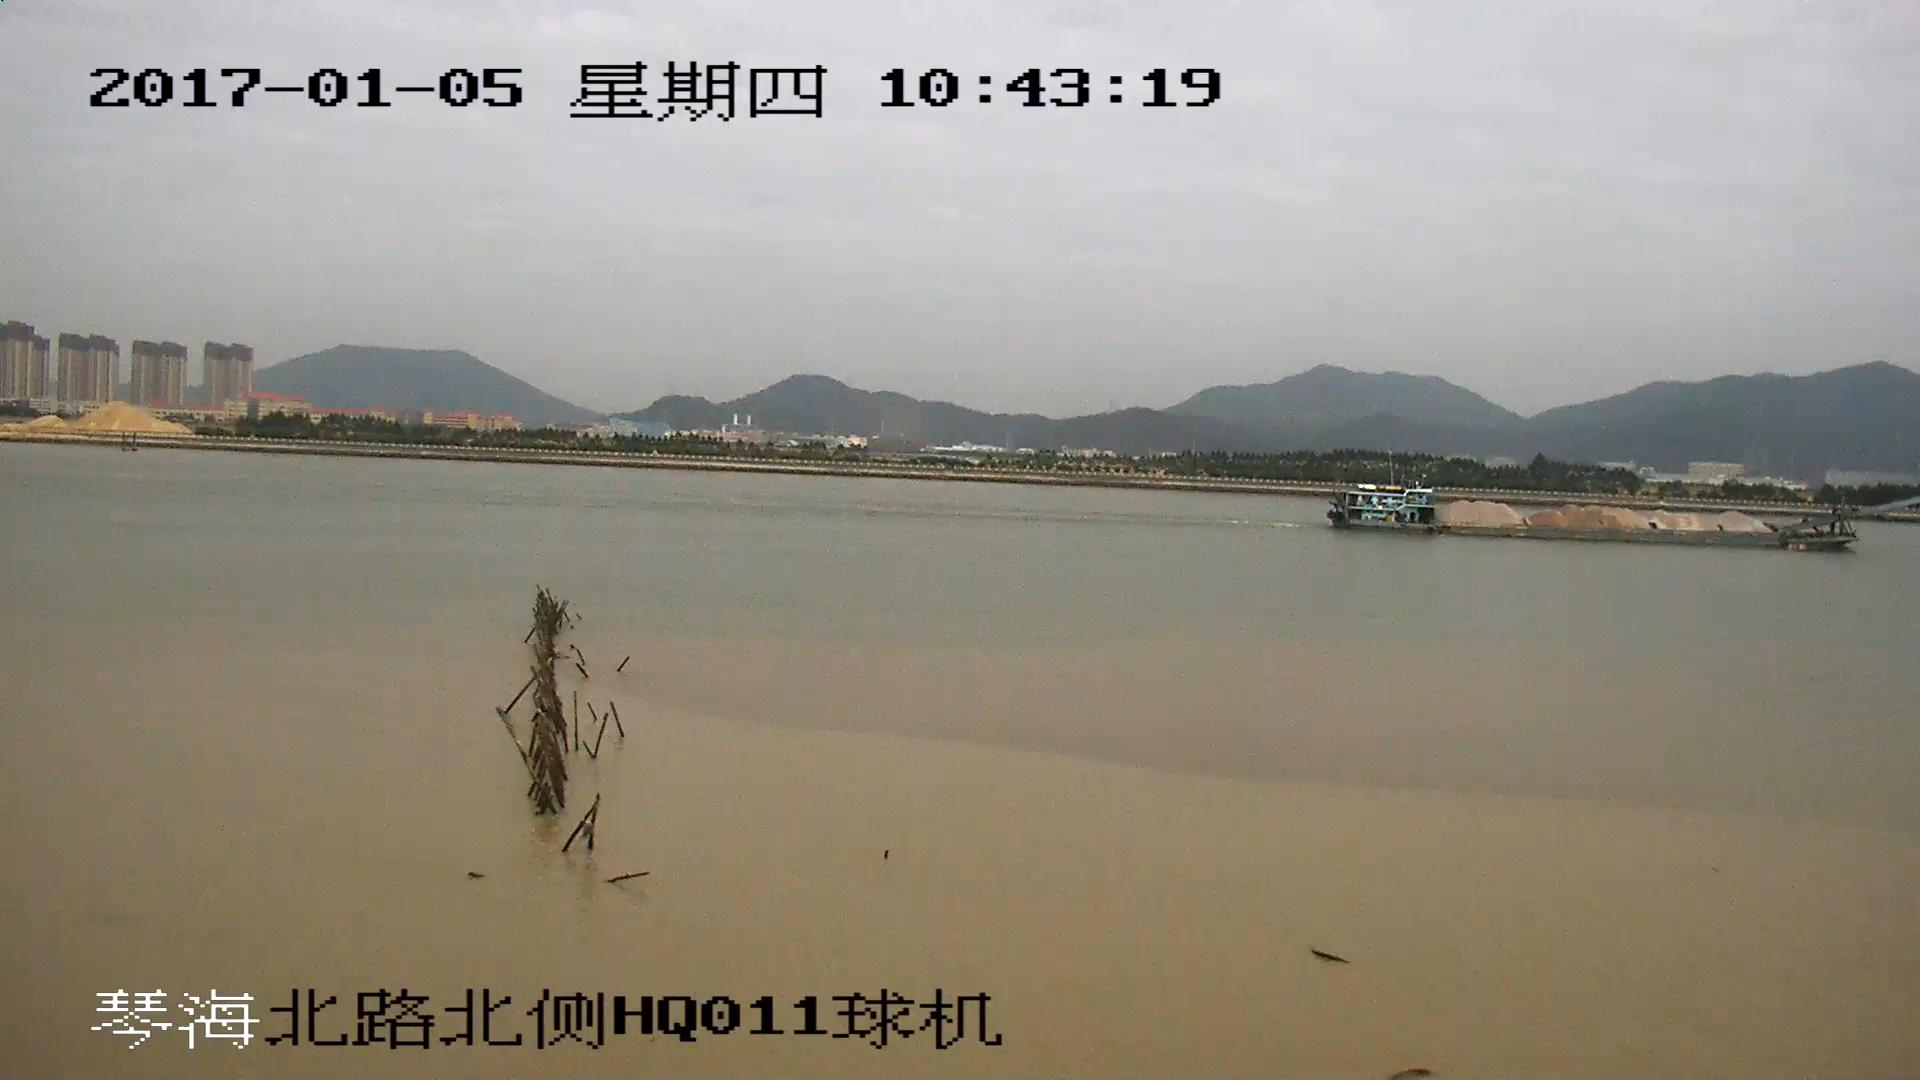ore carrier: (1336, 486, 1920, 550)
